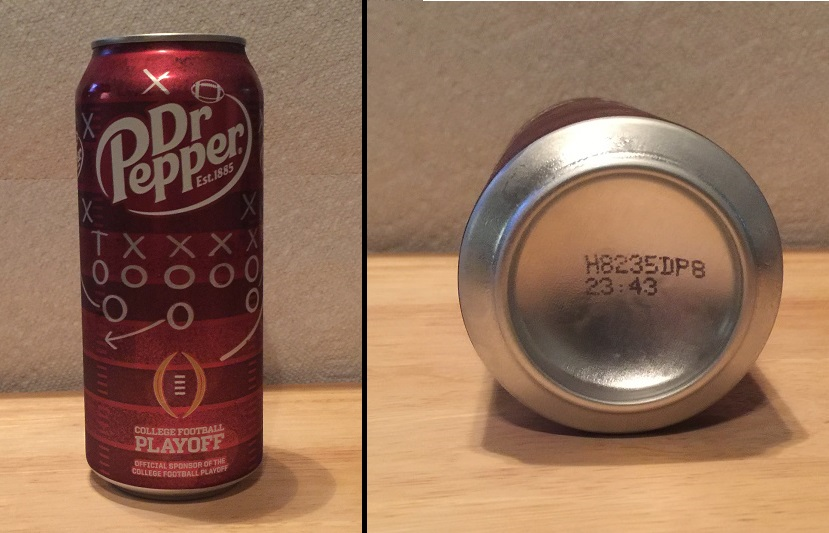can: (445, 91, 794, 448), (65, 16, 278, 515)
